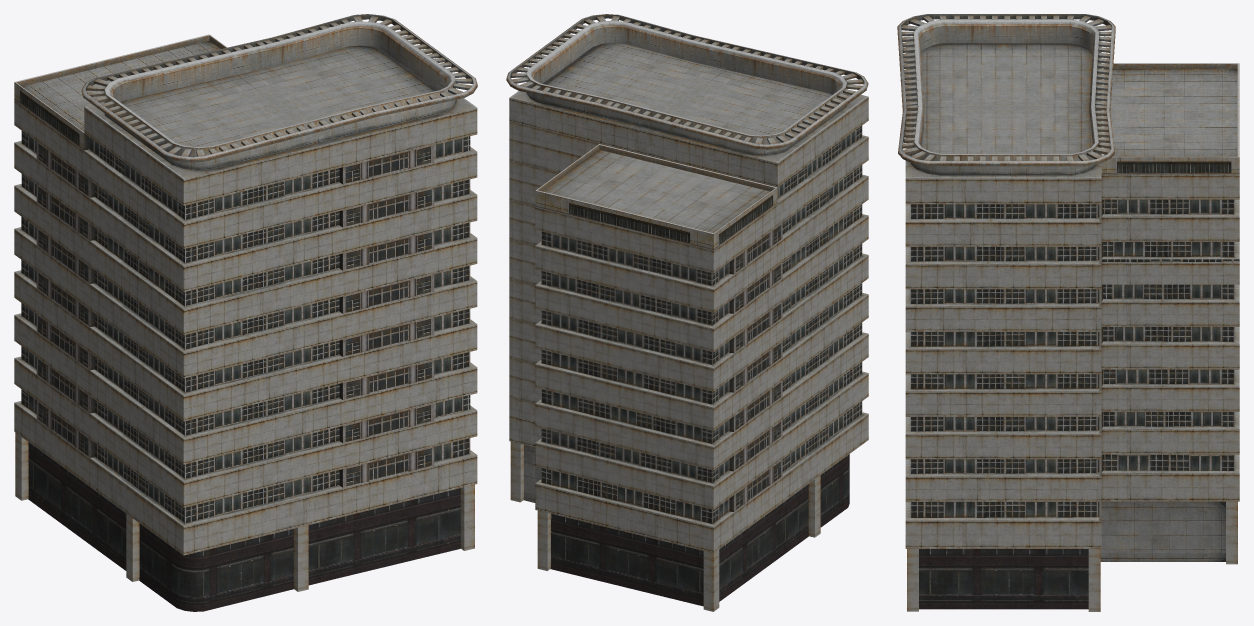
Rendered from buildings_03.FBX.
3 views of the same model, side by side, from view 1: azimuth 30°, elevation 25°; view 2: azimuth 150°, elevation 25°; view 3: azimuth 270°, elevation 25° (orthographic). The views are drawn at different scales.
Parts seen in each view (by area): view 1: Object003; view 2: Object003; view 3: Object003.
Part boxes in pixels (<box>): Object003: <box>14,14,477,611</box>; Object003: <box>506,14,868,611</box>; Object003: <box>897,14,1239,611</box>.
Size of the model in its own units: 2509 by 2421 by 3558.
Materials: 1 (1 with a texture image).
